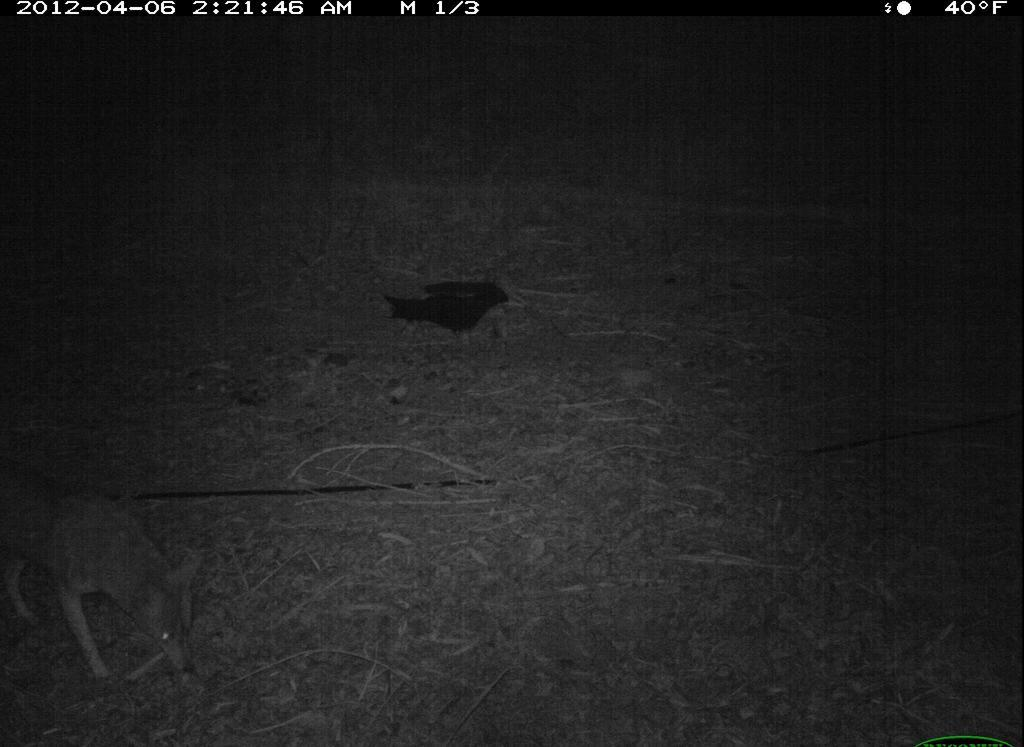coyote: (6, 472, 210, 687)
